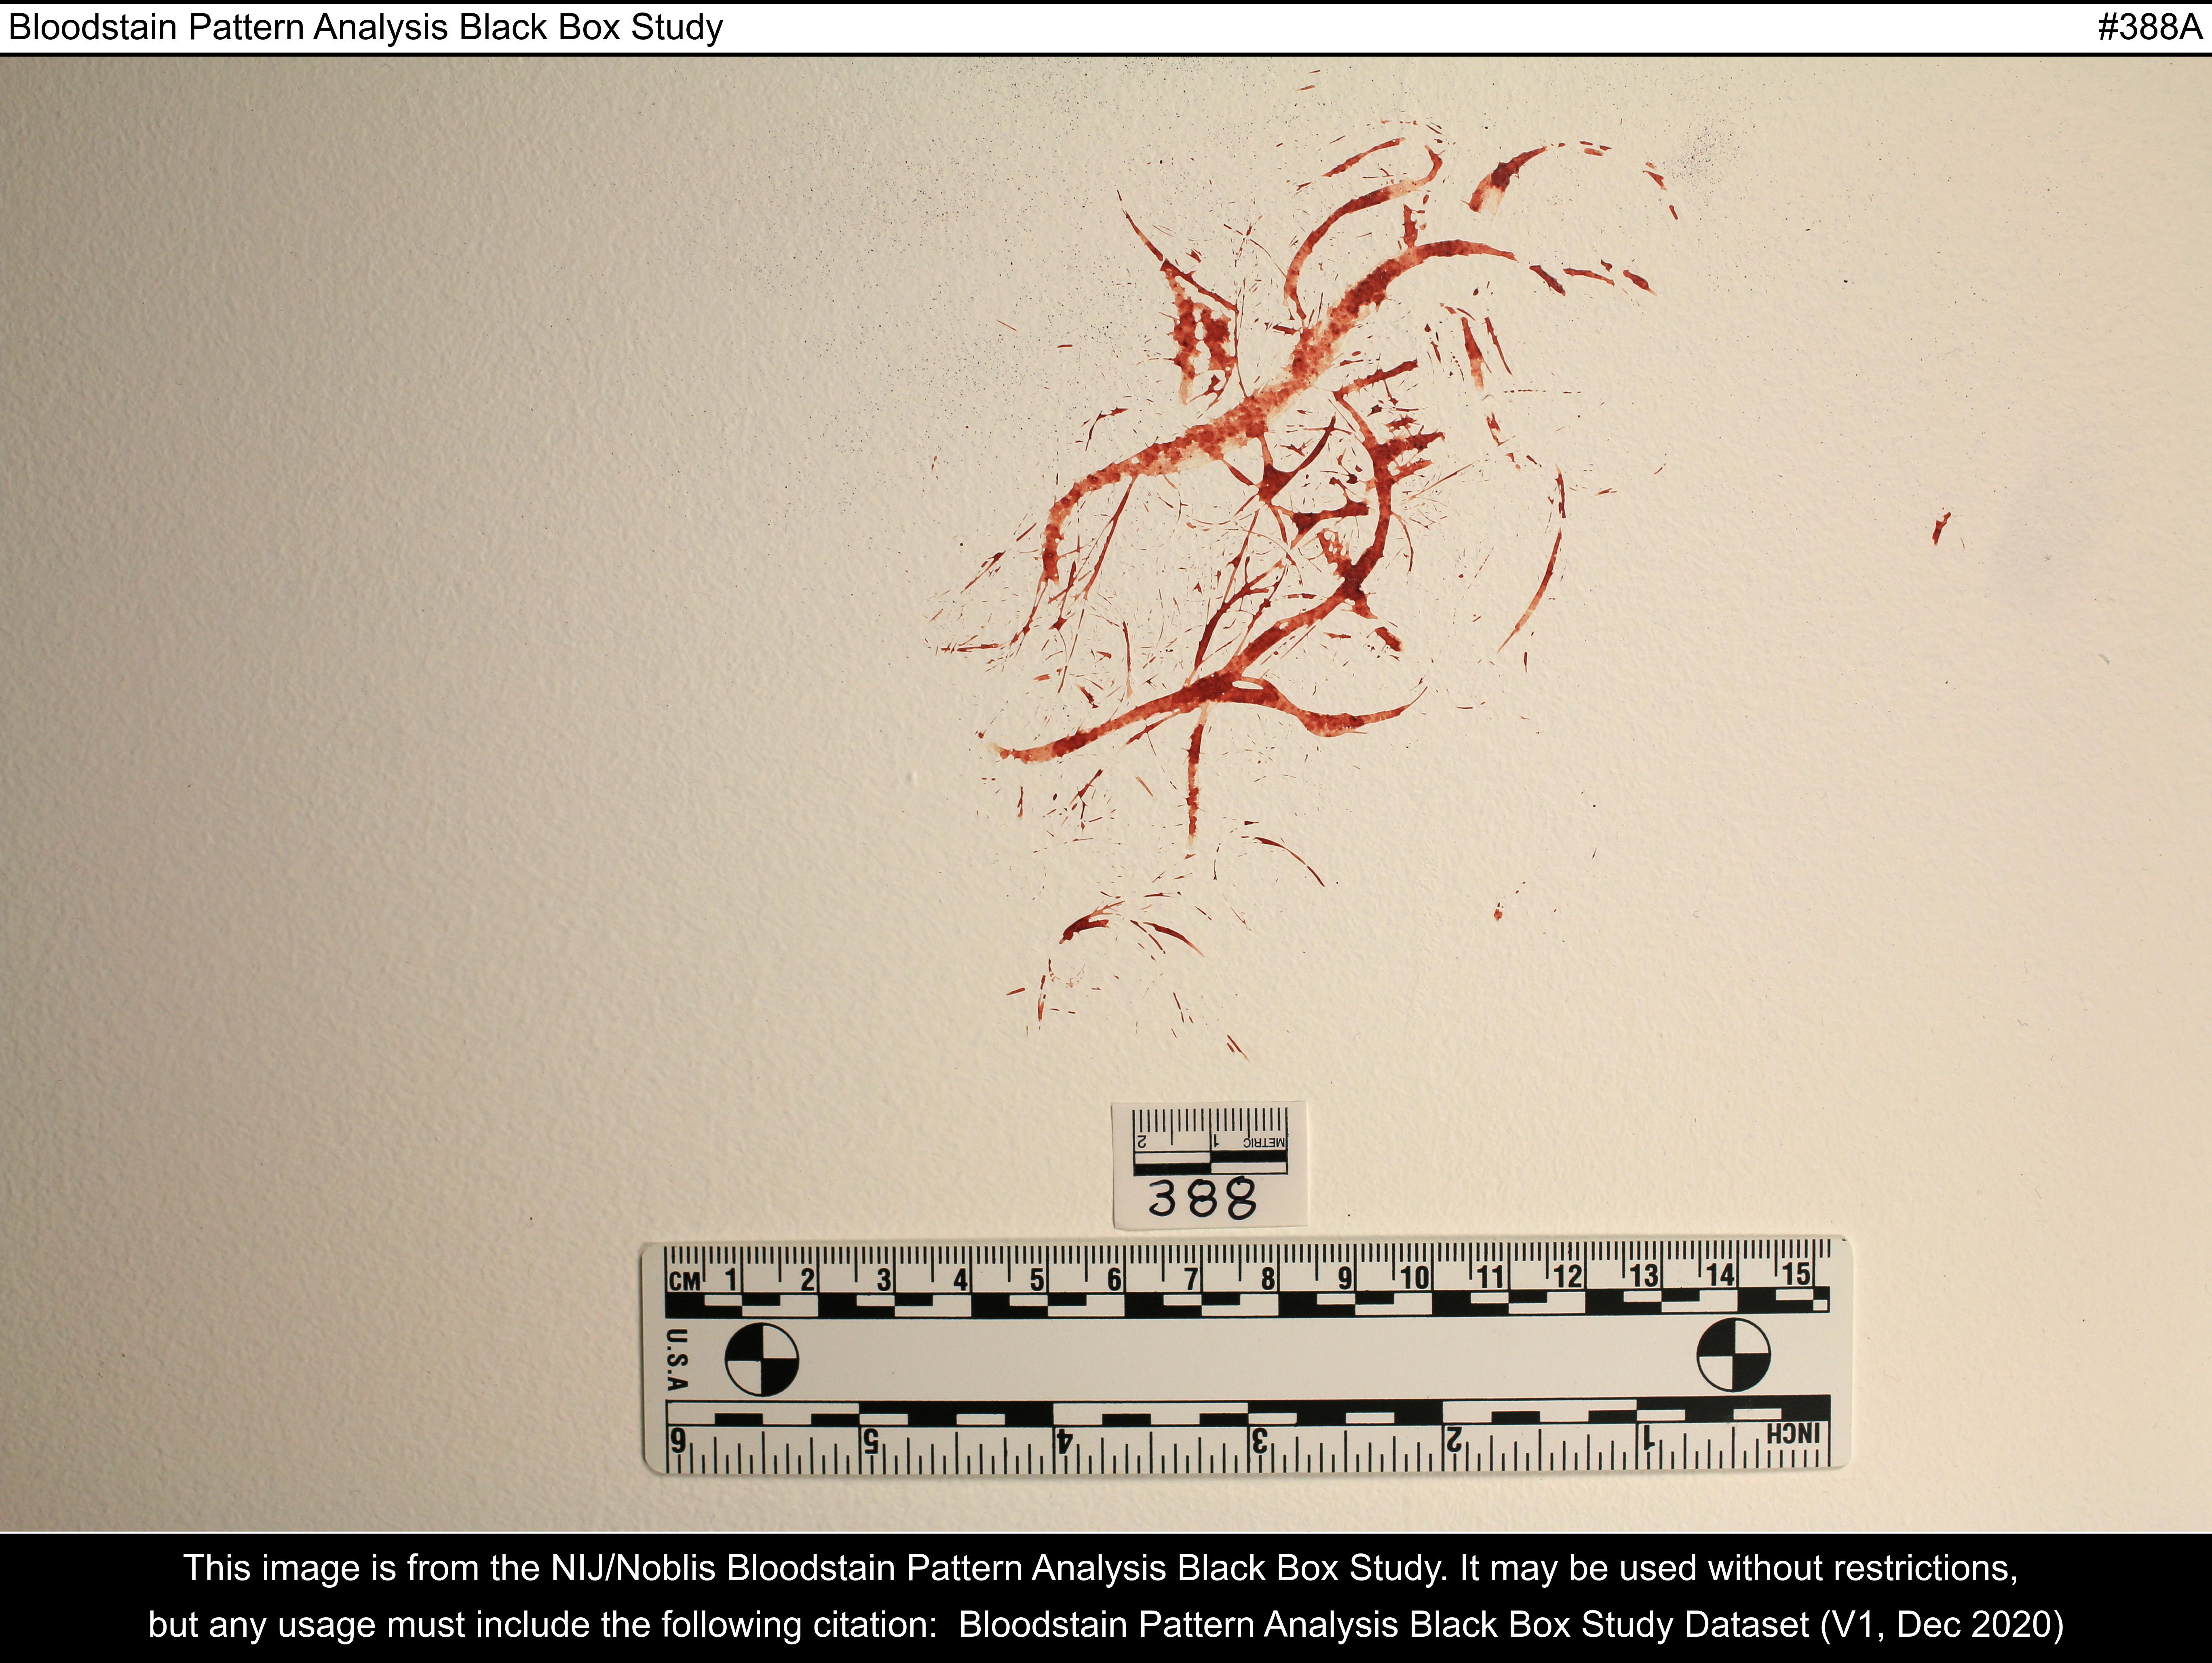Transfer: (1009, 150, 1538, 791)
